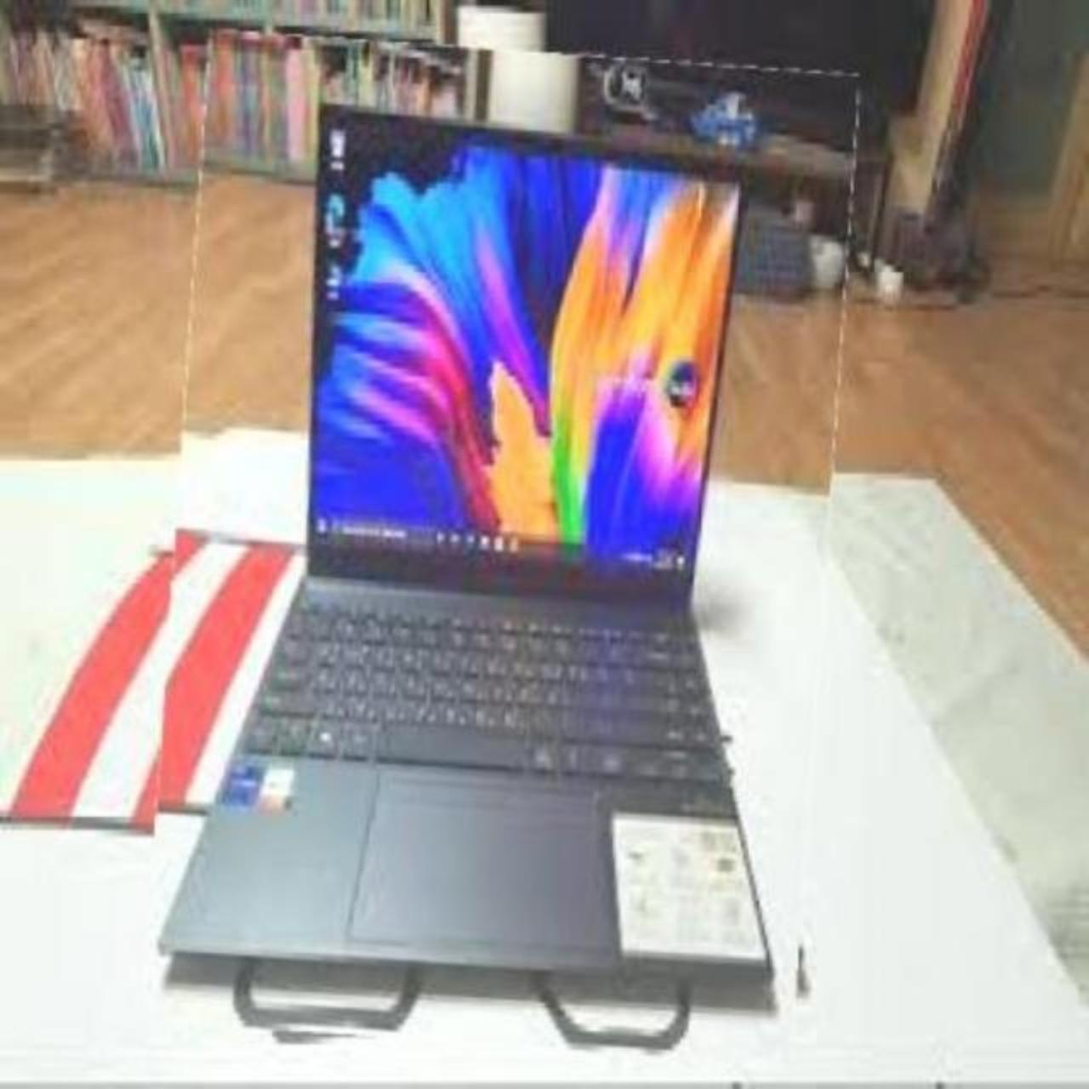laptop: (157, 42, 843, 1054)
